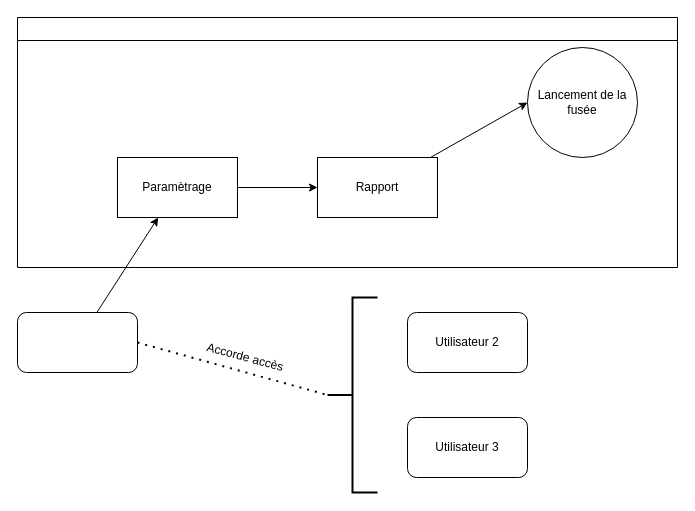
This 695x511 diagram has some shape labels left out. Here are the shapes that lost their labels. From the top down, the centre of each, then its label:
[347,142]: Simulation
[77,342]: Utilisateur 1
